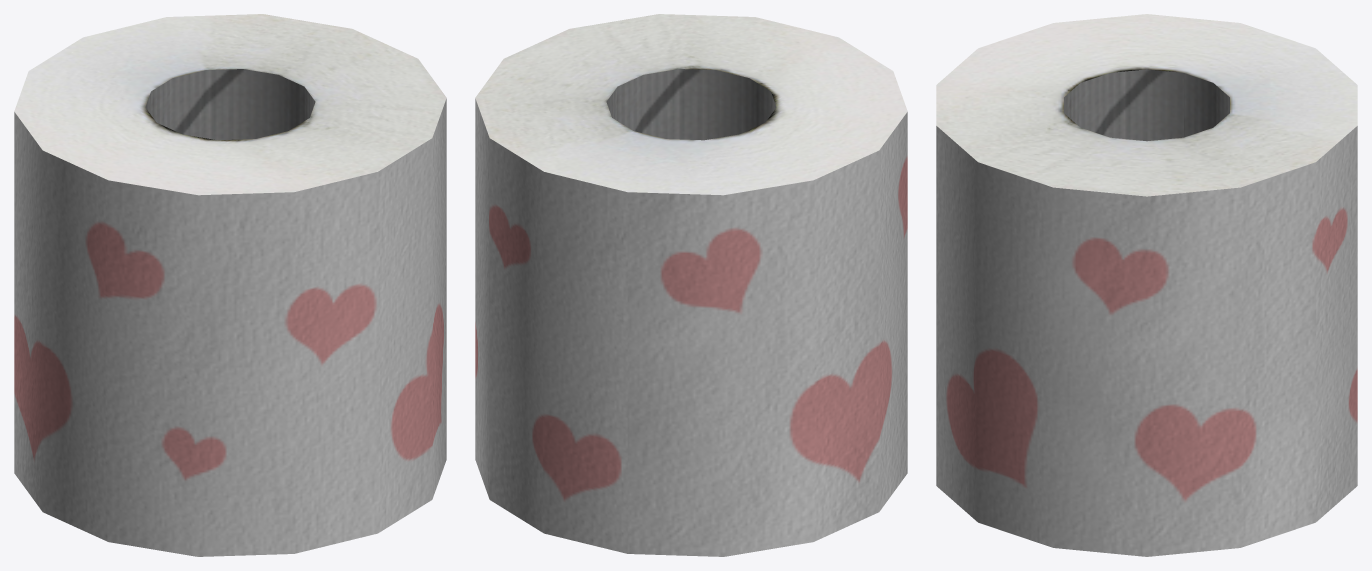
The model's file is PROPS_toiletPaper_01.FBX.
3 renders of one model, left to right at view 1: azimuth 30°, elevation 25°; view 2: azimuth 150°, elevation 25°; view 3: azimuth 270°, elevation 25°, orthographic.
Parts seen in each view (by area): view 1: PROPS_toiletPaper_01; view 2: PROPS_toiletPaper_01; view 3: PROPS_toiletPaper_01.
Part boxes in pixels (x1,y1,x2,y2): PROPS_toiletPaper_01: (14, 14, 446, 556); PROPS_toiletPaper_01: (475, 14, 907, 556); PROPS_toiletPaper_01: (936, 14, 1357, 556).
Bounding box in the file's own units: 16 × 14.72 × 15.6.
1 material, 1 textured.
